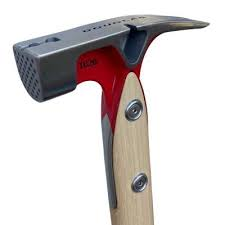hammer: (12, 13, 210, 225)
